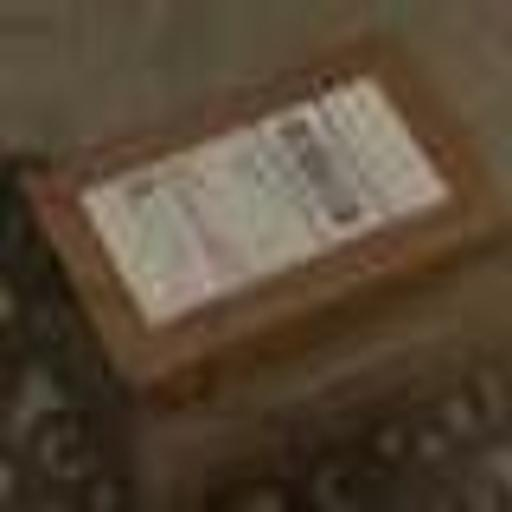Other: (26, 42, 487, 483)
